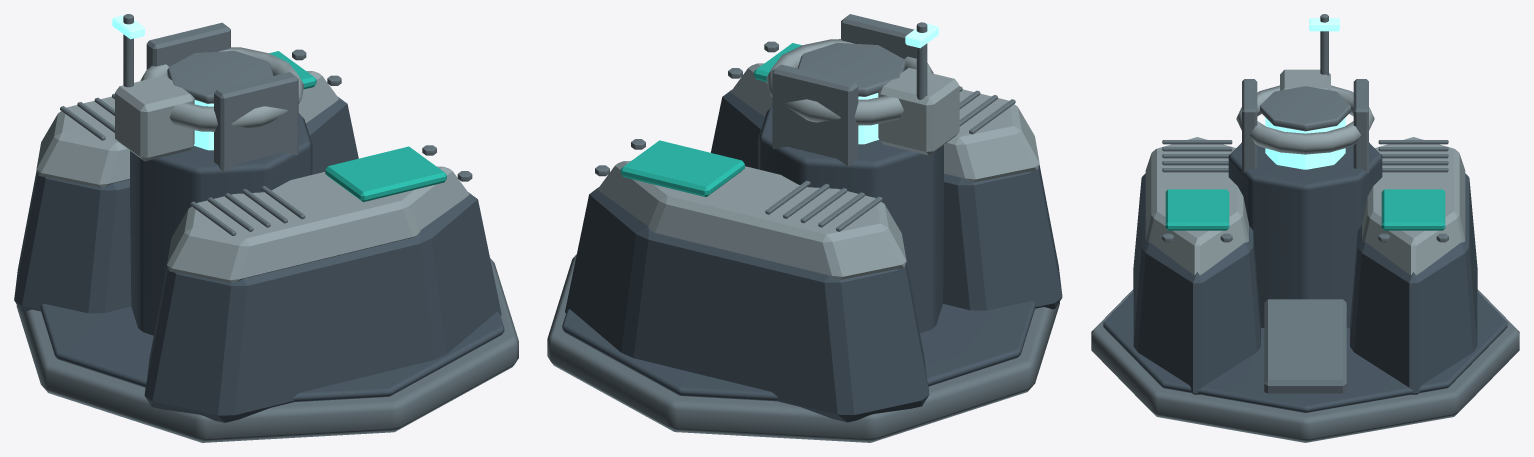
File: SM_Anchor.fbx
3 views of the same model, side by side, from view 1: azimuth 30°, elevation 25°; view 2: azimuth 150°, elevation 25°; view 3: azimuth 270°, elevation 25° (orthographic). The views are drawn at different scales.
Parts seen in each view (by area): view 1: SM_Anchor; view 2: SM_Anchor; view 3: SM_Anchor.
Boxes of the visible parts, bbox=[...] form: SM_Anchor: bbox=[14, 14, 518, 442]; SM_Anchor: bbox=[547, 14, 1062, 442]; SM_Anchor: bbox=[1091, 14, 1519, 442].
Bounding box in the file's own units: 250 × 250 × 185.
